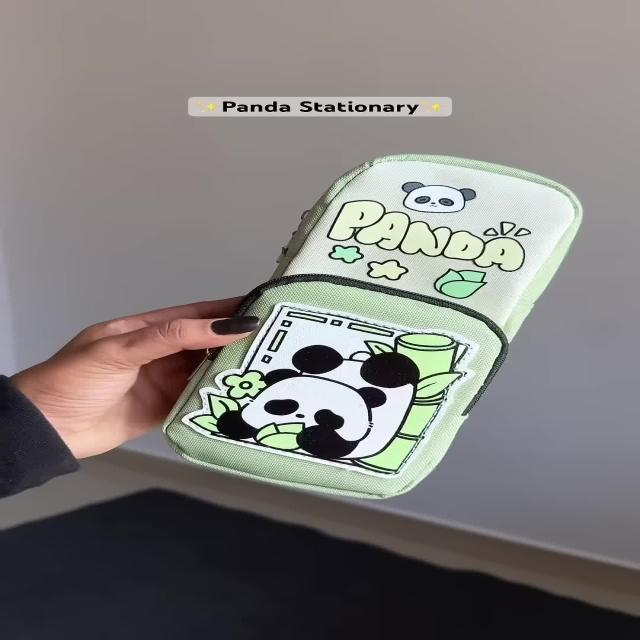Stationary holder: (134, 128, 610, 520)
